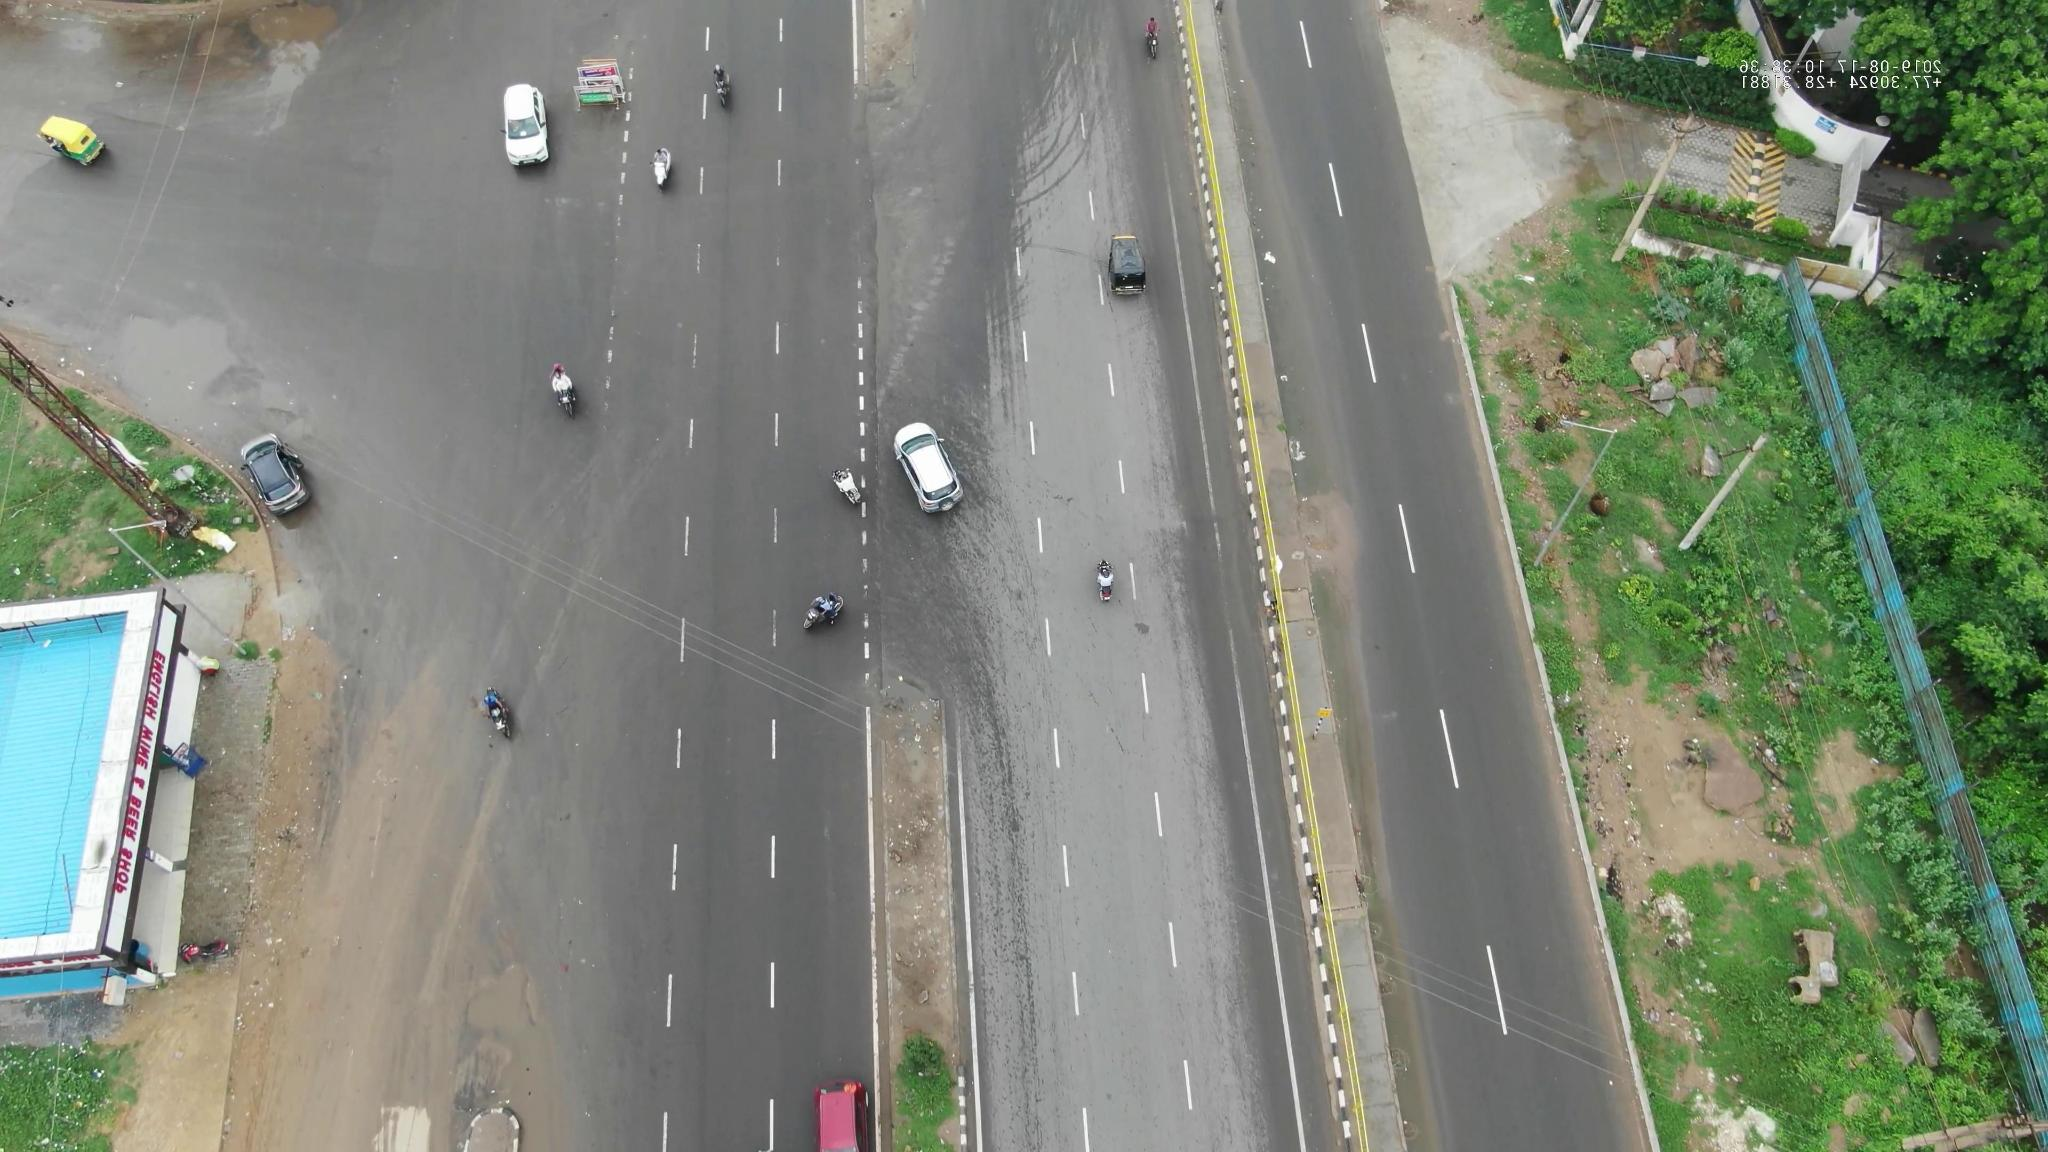Muddy_road: (271, 639, 356, 836), (141, 1, 340, 63)
